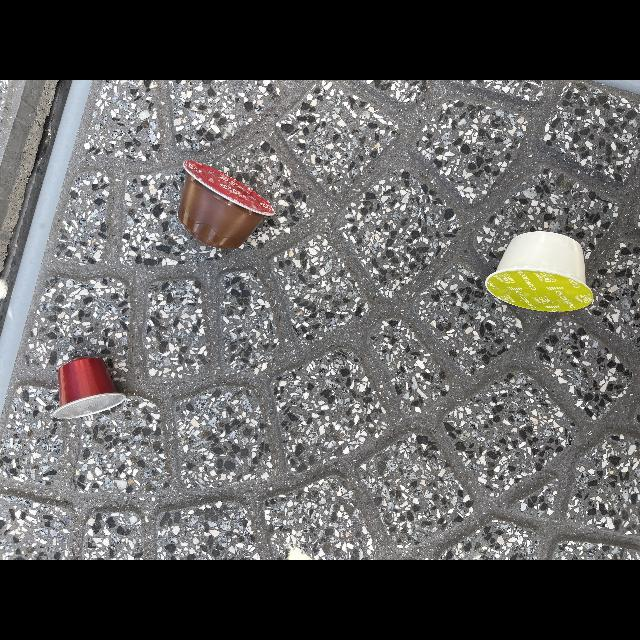intact_capsule: (474, 222, 610, 324), (173, 150, 283, 264), (46, 352, 134, 431)
